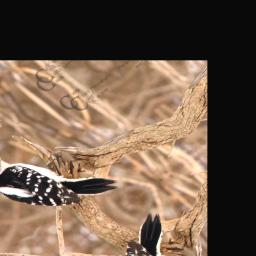Woodpecker: (0, 118, 125, 240)
